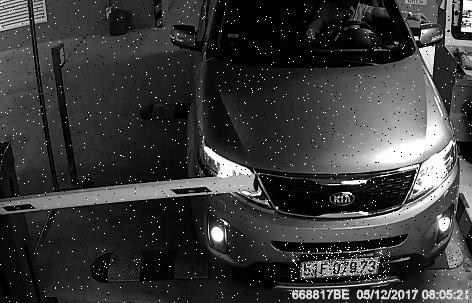License-plate: (292, 248, 392, 283)
